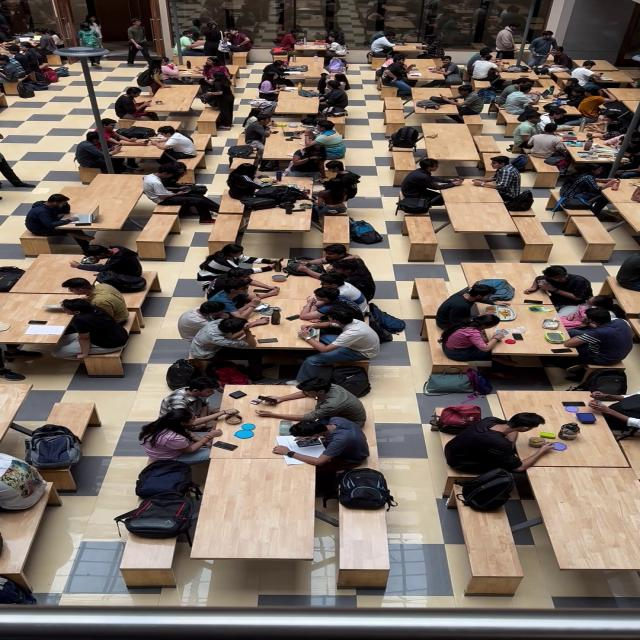Occupied: (428, 309, 619, 377), (496, 388, 637, 469), (201, 386, 346, 458), (215, 276, 342, 336), (257, 46, 359, 120), (444, 411, 548, 477), (48, 174, 152, 234), (255, 374, 369, 427), (275, 416, 371, 472), (5, 255, 154, 291), (524, 132, 615, 188), (138, 407, 224, 462), (49, 332, 133, 386), (140, 166, 218, 223), (158, 377, 238, 432), (558, 321, 636, 377), (176, 306, 269, 352), (110, 137, 210, 177), (383, 79, 465, 126), (198, 238, 280, 281), (556, 166, 622, 217), (400, 158, 464, 206), (300, 171, 363, 217), (548, 61, 634, 94), (255, 126, 318, 170), (423, 124, 482, 170), (434, 284, 504, 322), (526, 265, 594, 304), (23, 197, 84, 240), (63, 277, 131, 315), (224, 162, 280, 205), (297, 277, 367, 311), (473, 155, 523, 202), (76, 133, 132, 174), (574, 132, 640, 166), (198, 70, 235, 124), (586, 100, 638, 138), (526, 102, 598, 129), (280, 141, 328, 181), (167, 55, 232, 84), (432, 83, 485, 117), (143, 85, 201, 116), (305, 121, 347, 161), (149, 126, 197, 161), (523, 124, 566, 161), (269, 86, 320, 116), (437, 324, 488, 354), (113, 87, 156, 121), (383, 50, 438, 74), (511, 114, 545, 149), (243, 98, 277, 132), (500, 85, 538, 115), (316, 80, 348, 115), (527, 30, 556, 67), (427, 55, 461, 86), (494, 24, 523, 60), (16, 45, 48, 77), (200, 22, 225, 56), (220, 28, 252, 52), (369, 29, 397, 56), (547, 47, 577, 72), (262, 60, 294, 83), (320, 36, 348, 61), (467, 47, 494, 72), (1, 35, 31, 57), (38, 28, 63, 54), (243, 121, 271, 144), (271, 29, 297, 53), (179, 30, 204, 54), (332, 171, 361, 185), (38, 64, 60, 82), (198, 92, 219, 110), (325, 58, 346, 74)
Unoccupied: (434, 390, 635, 597), (188, 458, 313, 563), (530, 463, 639, 576), (1, 401, 99, 493), (448, 480, 526, 594), (0, 482, 56, 595), (335, 498, 390, 590), (237, 183, 318, 240), (118, 526, 180, 588), (458, 261, 551, 298), (444, 202, 524, 241), (227, 348, 310, 378), (0, 383, 35, 454), (116, 113, 203, 141), (568, 215, 620, 257), (512, 212, 554, 259), (135, 214, 181, 252), (207, 202, 247, 244), (46, 402, 100, 432), (292, 59, 350, 86), (404, 216, 439, 260), (414, 278, 454, 312), (324, 359, 370, 383), (82, 352, 126, 377), (472, 136, 505, 168), (390, 148, 419, 182), (323, 214, 350, 244), (195, 110, 221, 134), (389, 43, 428, 57), (185, 60, 193, 70)
